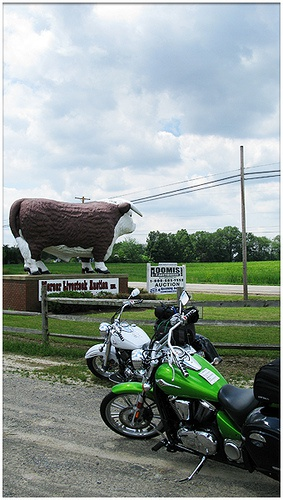non-vehicle: (98, 290, 278, 483), (83, 288, 222, 383)
